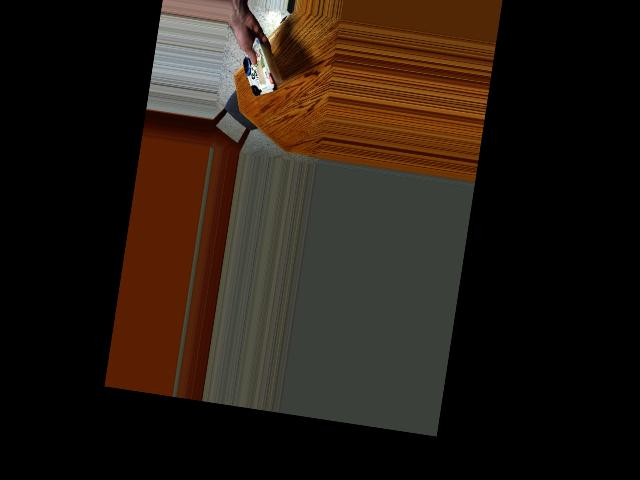cheese: (231, 44, 291, 97)
